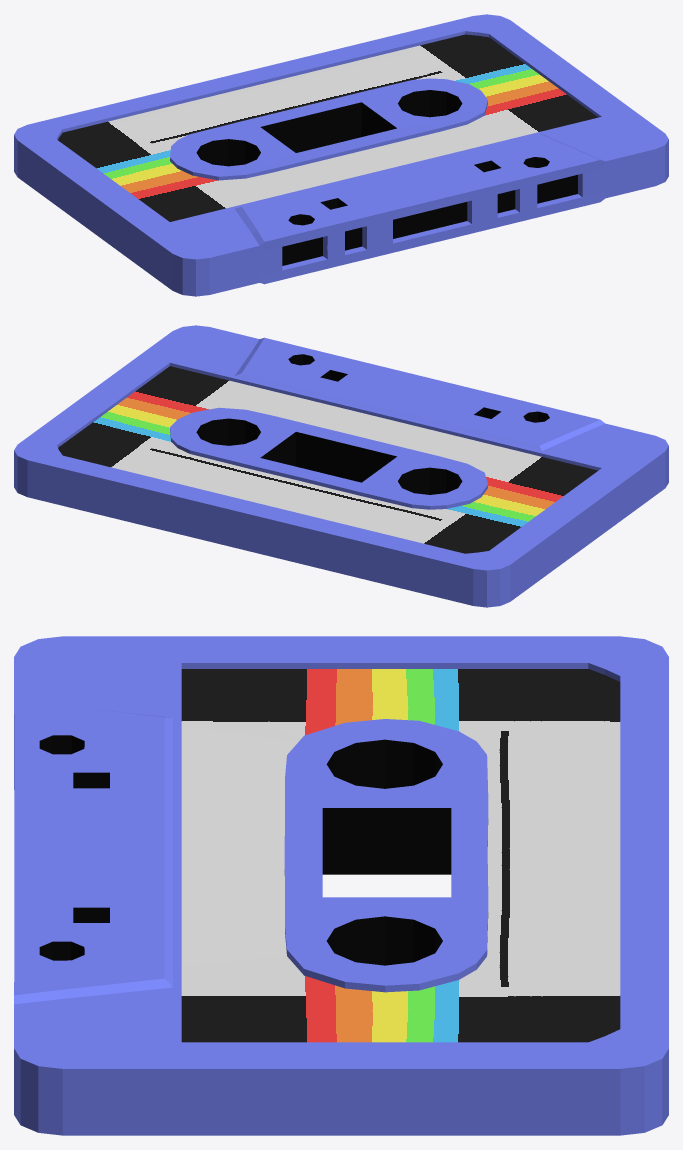
The model's file is cassette.glb.
The picture shows the model from 3 angles, top to bottom: view 1: azimuth 30°, elevation 25°; view 2: azimuth 150°, elevation 25°; view 3: azimuth 270°, elevation 25°; orthographic projection. The views are drawn at different scales.
Visible parts, largest first — view 1: Cassette; view 2: Cassette; view 3: Cassette.
Part boxes in pixels (x1,y1,x2,y2): Cassette: (14,14,668,296); Cassette: (14,325,668,607); Cassette: (14,636,668,1135).
Bounding box in the file's own units: 0.1028 × 0.00843 × 0.0658.
1 material, 1 textured.
